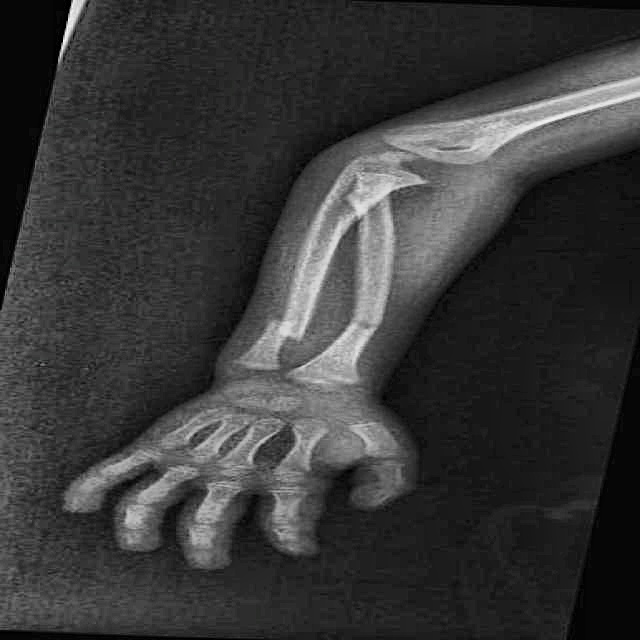Transverse: (224, 307, 320, 355)
Transverse Displaced: (328, 304, 408, 344)
